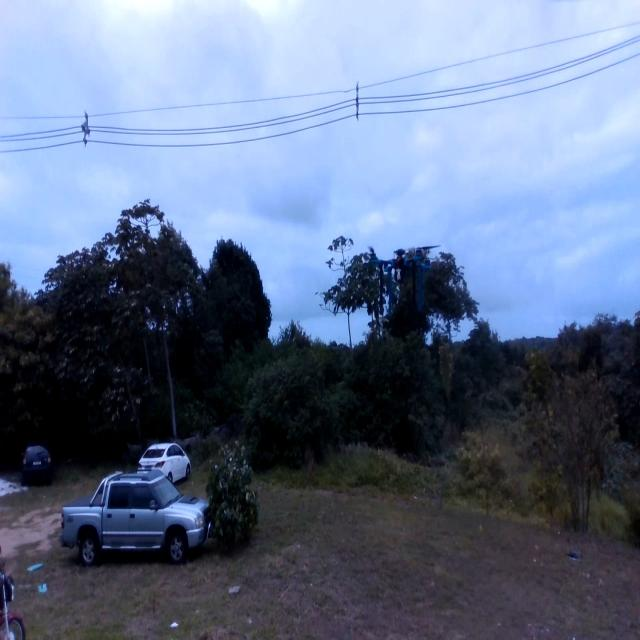-uav-: (357, 234, 460, 320)
